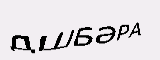А: (70, 12, 92, 41)
Д: (29, 12, 47, 37)
К: (52, 10, 69, 36), (94, 19, 111, 40)
Я: (110, 17, 129, 44)
